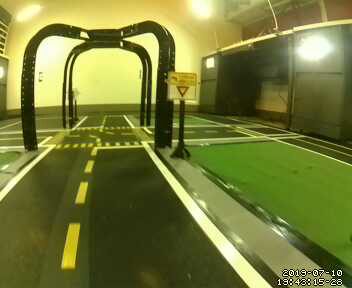Turn Yield: (167, 71, 198, 101)
